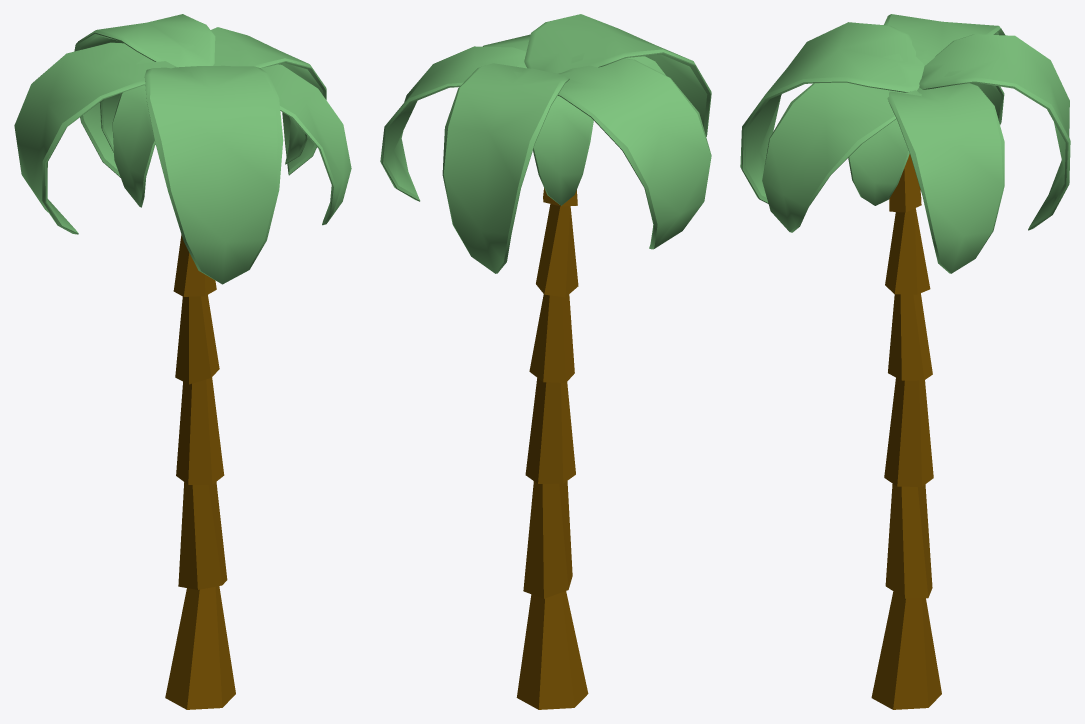
Rendered from PalmTree3.fbx.
3 views of the same model, side by side, from view 1: azimuth 30°, elevation 25°; view 2: azimuth 150°, elevation 25°; view 3: azimuth 270°, elevation 25° (orthographic).
Visible parts, largest first — view 1: PalmTree3; view 2: PalmTree3; view 3: PalmTree3.
Part boxes in pixels (box(x1,y1,x2,y2)): PalmTree3: box(14, 14, 351, 709); PalmTree3: box(380, 14, 711, 709); PalmTree3: box(740, 14, 1070, 709).
Bounding box in the file's own units: 79.64 × 165 × 76.77.
